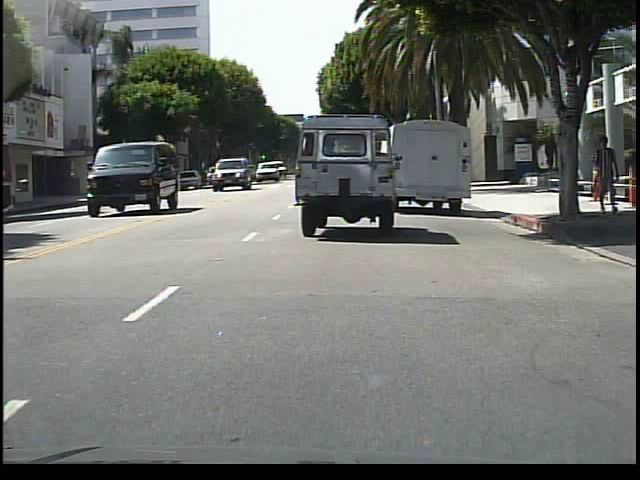person: (591, 134, 618, 215)
